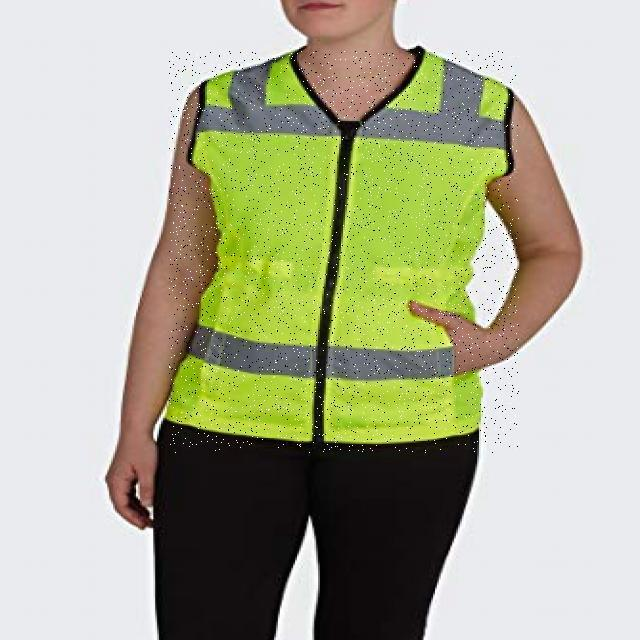vest: (169, 51, 519, 453)
